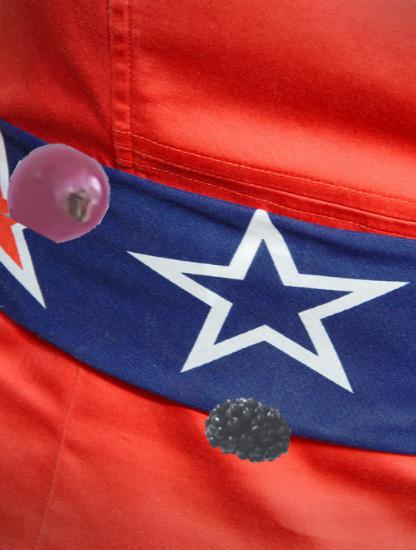Mulberry: (203, 385, 291, 473)
Redcurrant: (9, 142, 110, 243)
